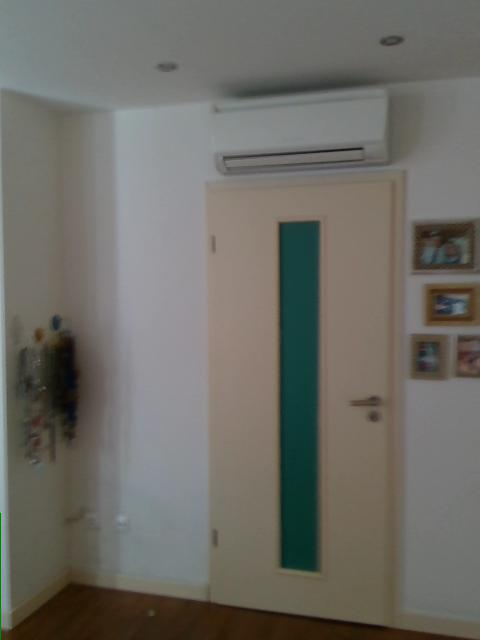door: (200, 166, 404, 629)
